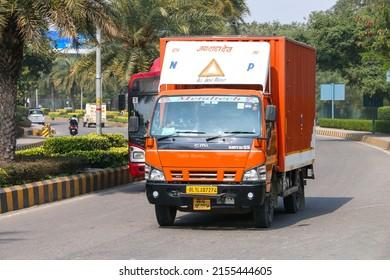car: (28, 110, 46, 129)
motorbike: (68, 119, 79, 134)
truck: (148, 35, 317, 233), (128, 61, 164, 180), (84, 103, 109, 127)
